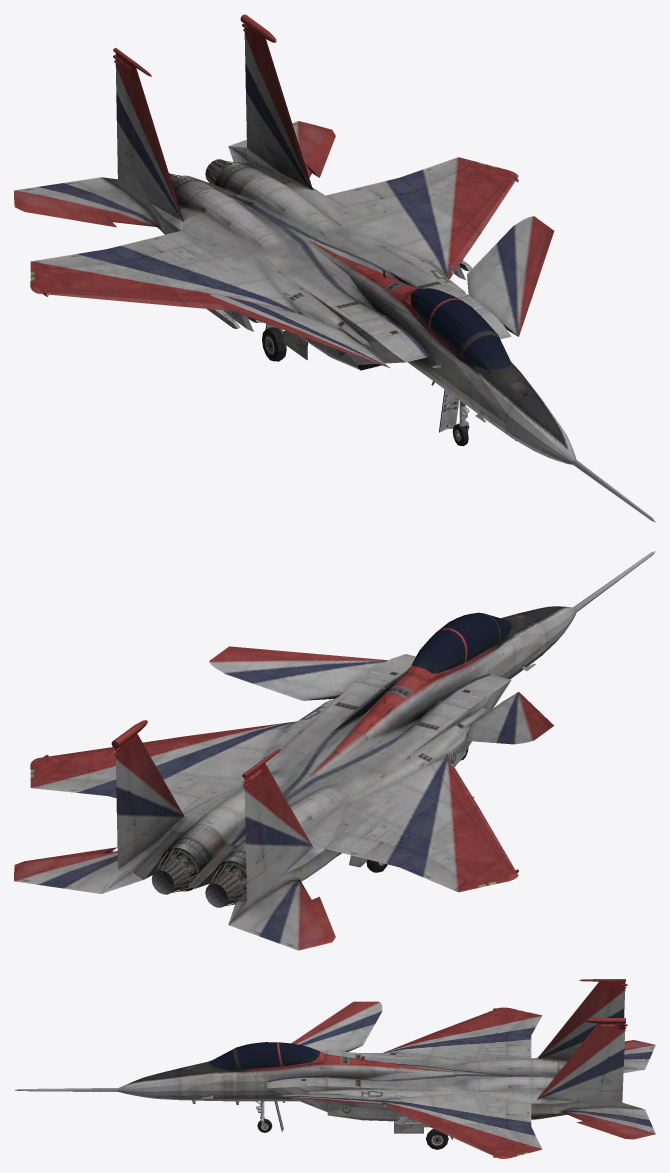
3 renders of one model, top to bottom at view 1: azimuth 30°, elevation 25°; view 2: azimuth 150°, elevation 25°; view 3: azimuth 270°, elevation 25°, orthographic. The views are drawn at different scales.
Visible parts, largest first — view 1: 战机06; view 2: 战机06; view 3: 战机06.
Boxes of the visible parts, bbox=[...] form: 战机06: bbox=[14, 14, 655, 522]; 战机06: bbox=[14, 551, 655, 950]; 战机06: bbox=[15, 979, 655, 1158].
Bounding box in the file's own units: 10.84 × 4.5 × 19.42.
Materials: 1 (1 with a texture image).
